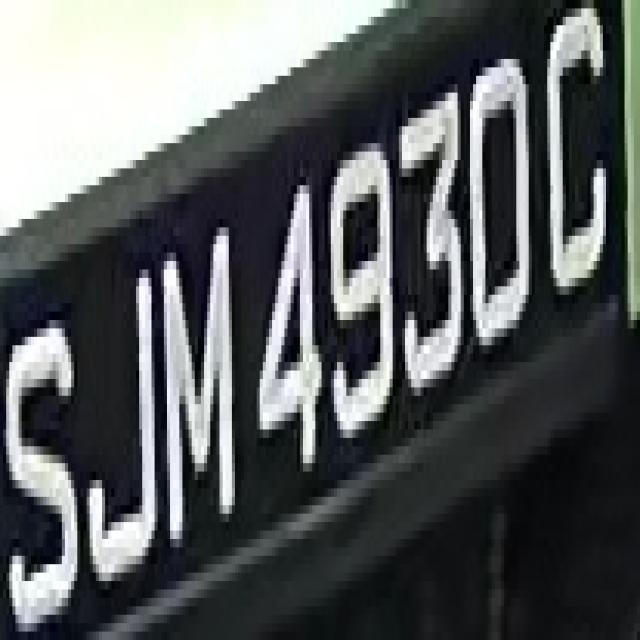0: (454, 42, 532, 379)
3: (399, 84, 467, 413)
4: (244, 152, 337, 514)
9: (312, 126, 405, 497)
C: (535, 8, 615, 312)
J: (74, 269, 158, 606)
M: (152, 244, 248, 573)
